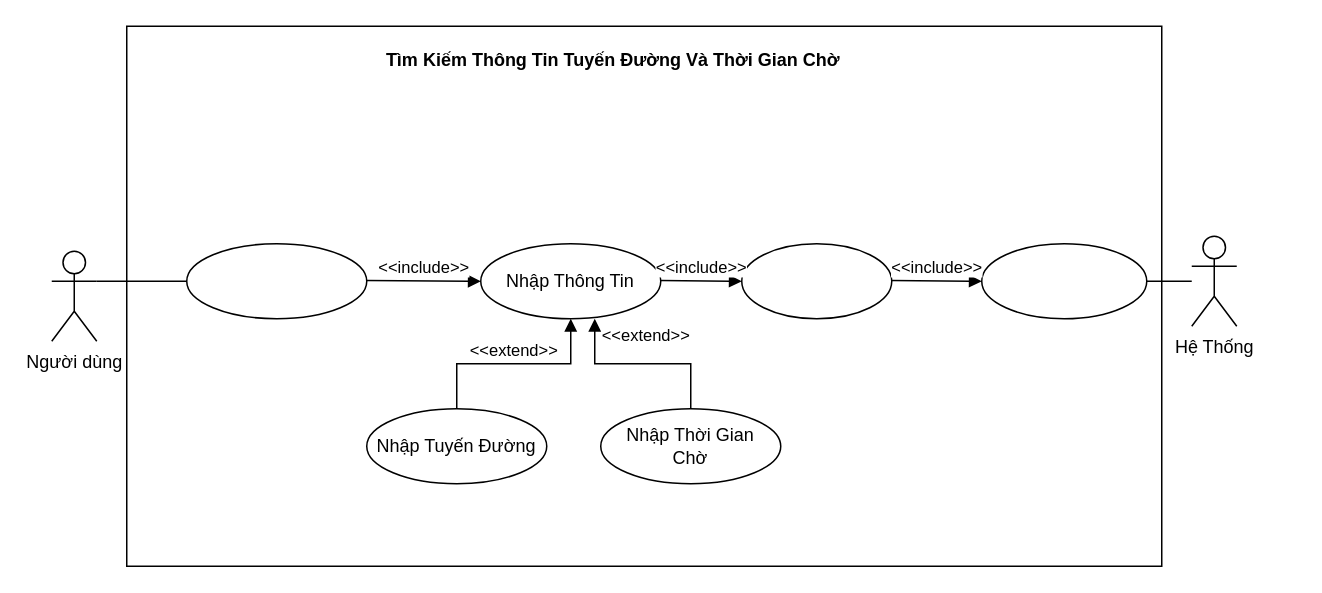
Some shapes in this 1322 by 593 pixel diagram are drawn without their labels. The centre of each missing label's shape, as x and y in pixels:
"Chọn Tra Cứu" belongs at point 276,280.
"Hiển Thị Trên Màn Hình" belongs at point 1063,280.
"Tìm Kiếm" belongs at point 816,280.
